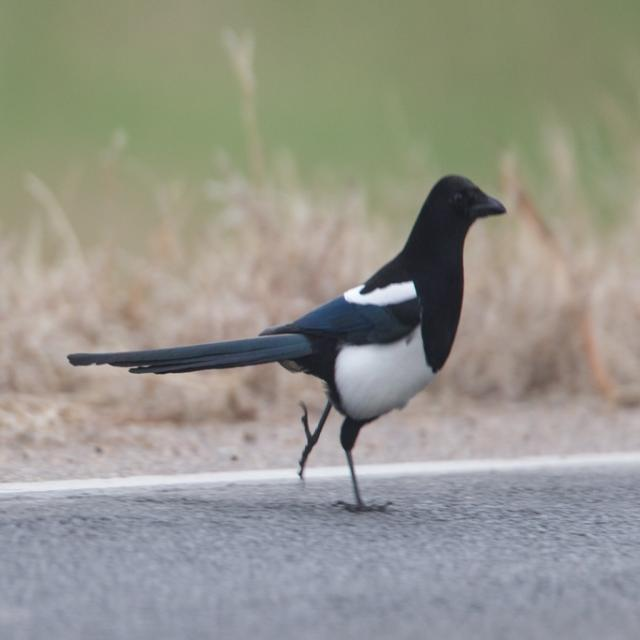bird: (64, 169, 514, 517)
